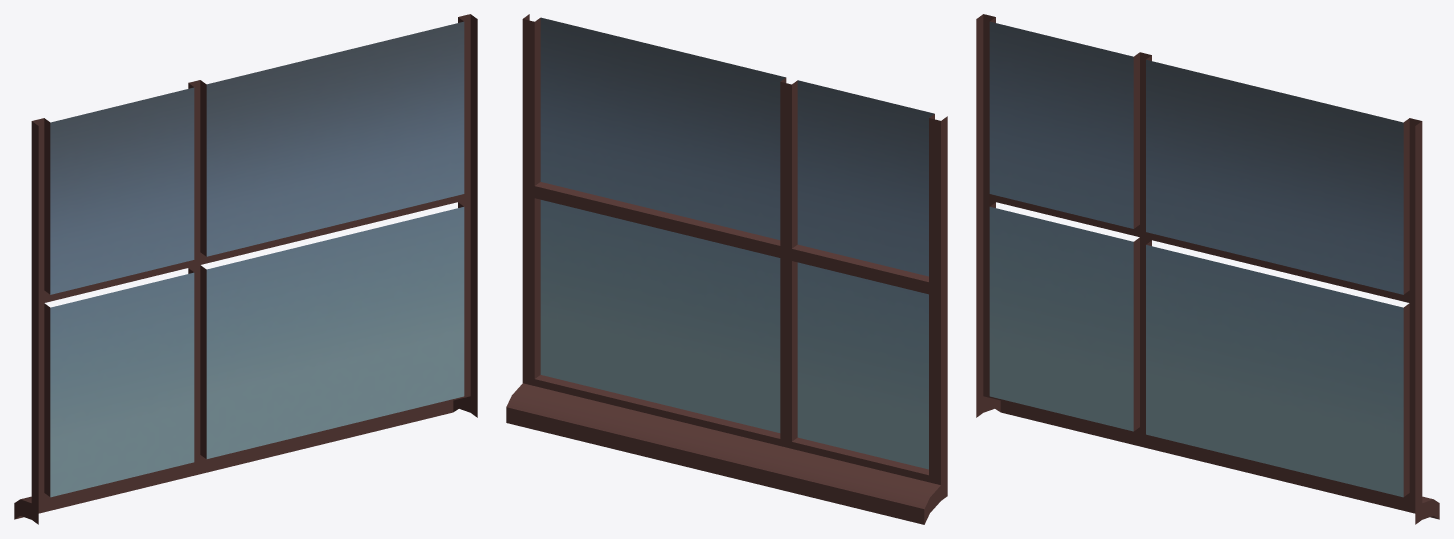
Rendered from Window.fbx.
3 views of the same model, side by side, from view 1: azimuth 30°, elevation 25°; view 2: azimuth 150°, elevation 25°; view 3: azimuth 330°, elevation 25° (orthographic). The views are drawn at different scales.
Parts seen in each view (by area): view 1: window; view 2: window; view 3: window.
Part boxes in pixels (<box>): window: <box>14,14,477,524</box>; window: <box>506,14,947,524</box>; window: <box>976,14,1439,524</box>.
Bounding box in the file's own units: 0.9444 × 0.8458 × 0.0908.
